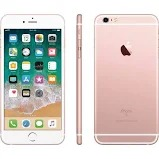iphone: (92, 9, 159, 146), (1, 10, 66, 147)
iphone6: (92, 11, 159, 148), (1, 10, 66, 147)
